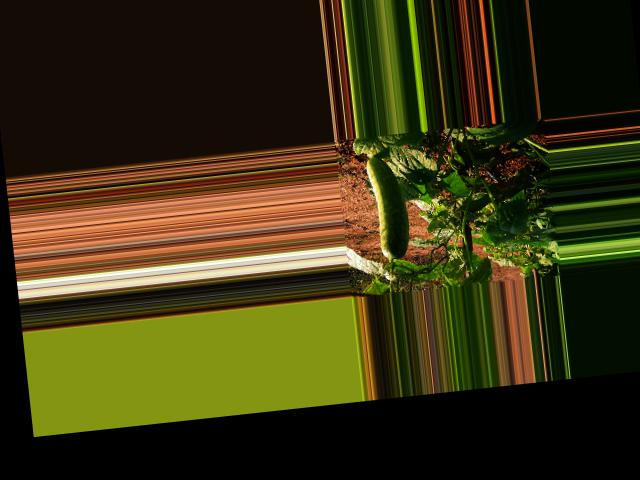cucumber: (365, 154, 411, 260)
